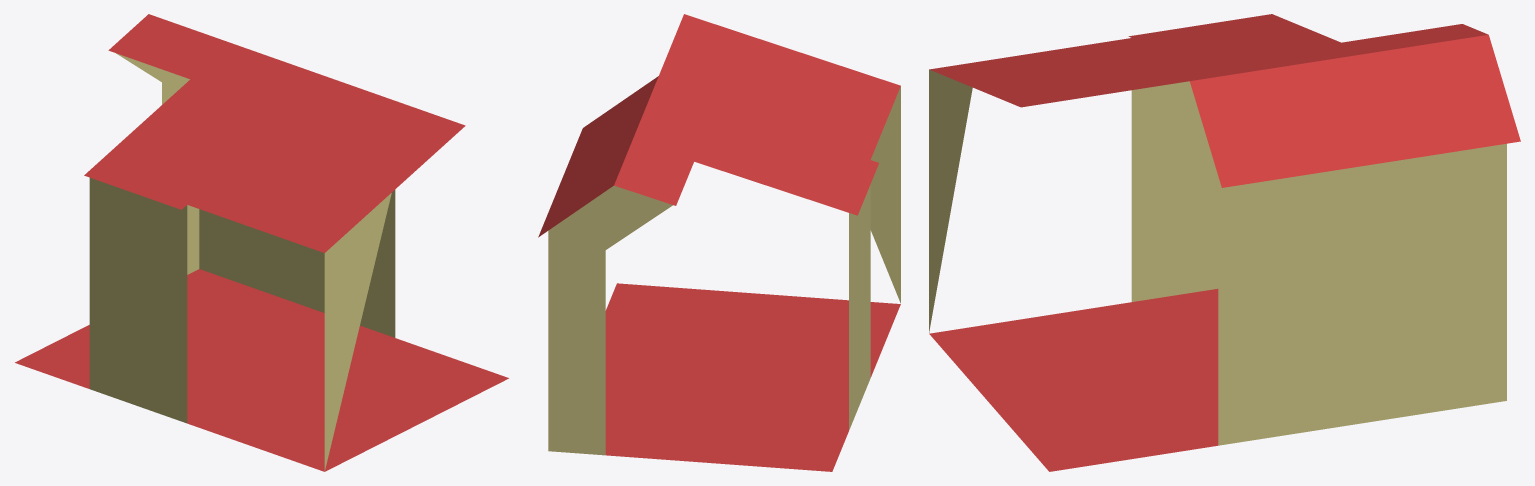
3 views of the same model, side by side, from view 1: azimuth 30°, elevation 25°; view 2: azimuth 150°, elevation 25°; view 3: azimuth 270°, elevation 25° (orthographic). The views are drawn at different scales.
Bounding box in the file's own units: 11.54 × 13.78 × 8.53.
